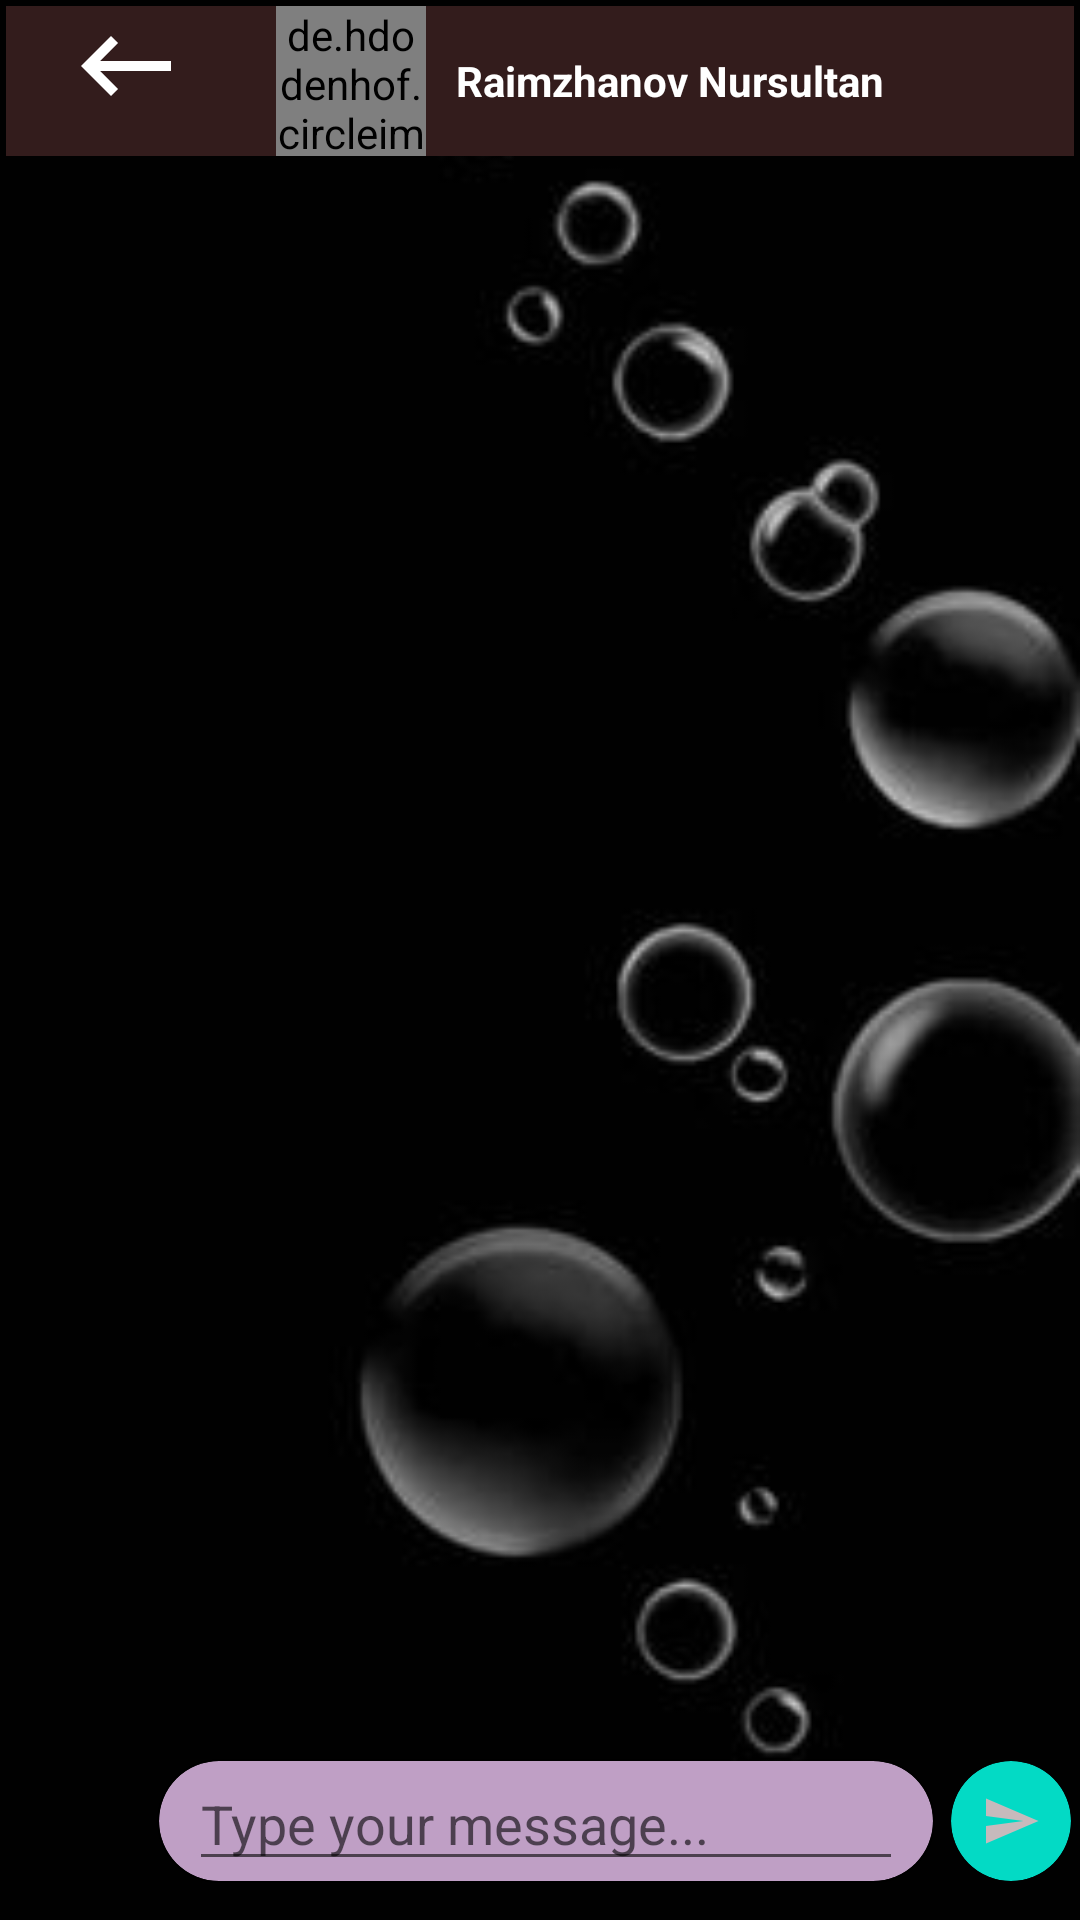

Icons on this 1080×1920 Android screen, each with its box as (x1, y1, x2, y2):
keyboard backspace: (81, 36, 171, 96)
send: (986, 1798, 1038, 1844)
